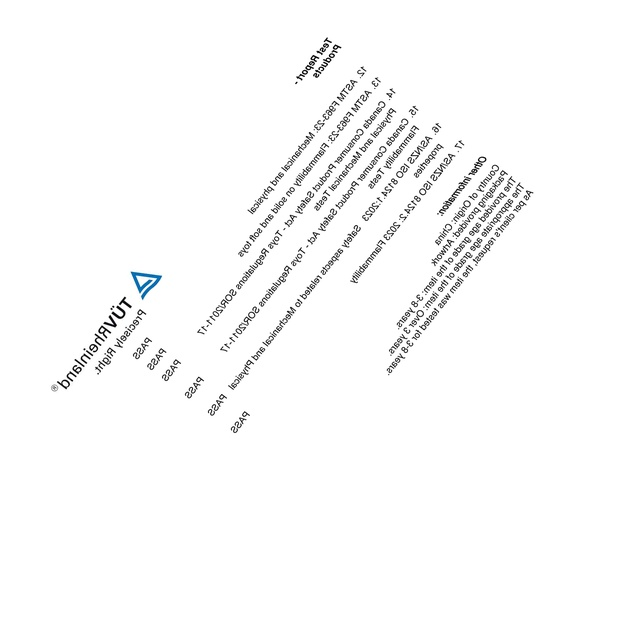tuv_rheinland: (46, 267, 163, 400)
